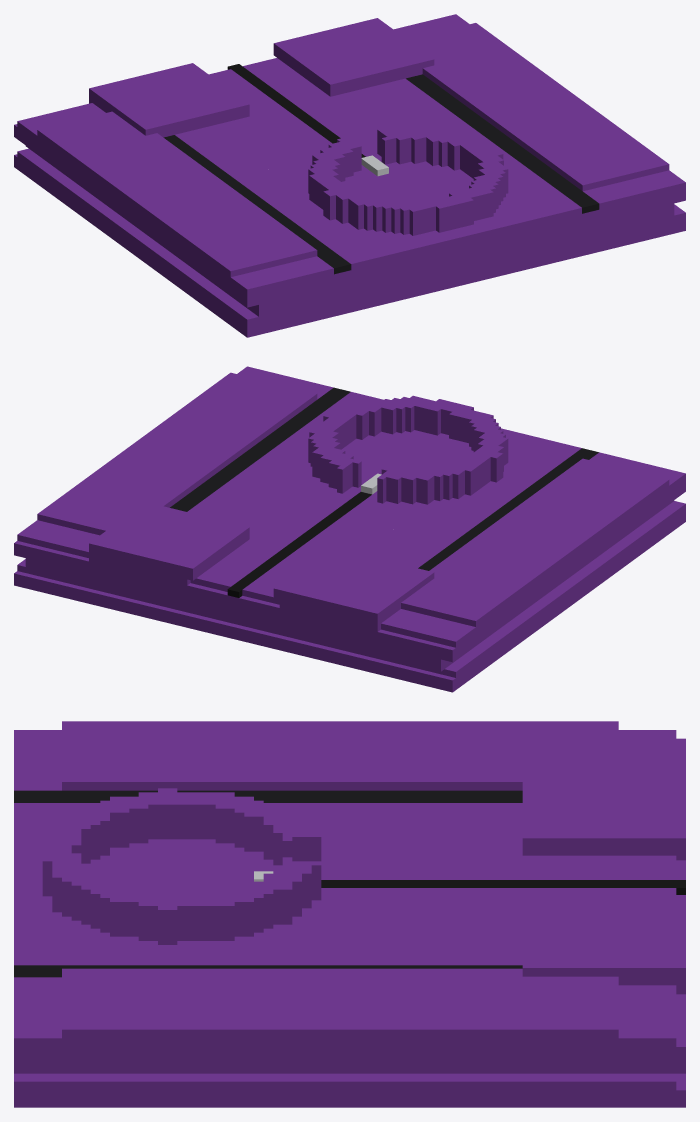
Rendered from bodysuit_lycra.glb.
3 renders of one model, top to bottom at view 1: azimuth 30°, elevation 25°; view 2: azimuth 150°, elevation 25°; view 3: azimuth 270°, elevation 25°, orthographic. The views are drawn at different scales.
Parts seen in each view (by area): view 1: bodysuit_lycra:compound; view 2: bodysuit_lycra:compound; view 3: bodysuit_lycra:compound.
Part boxes in pixels (x1,y1,x2,y2): bodysuit_lycra:compound: [14, 14, 685, 337]; bodysuit_lycra:compound: [14, 366, 685, 692]; bodysuit_lycra:compound: [14, 721, 685, 1107].
Bounding box in the file's own units: 0.304 × 0.048 × 0.28.
